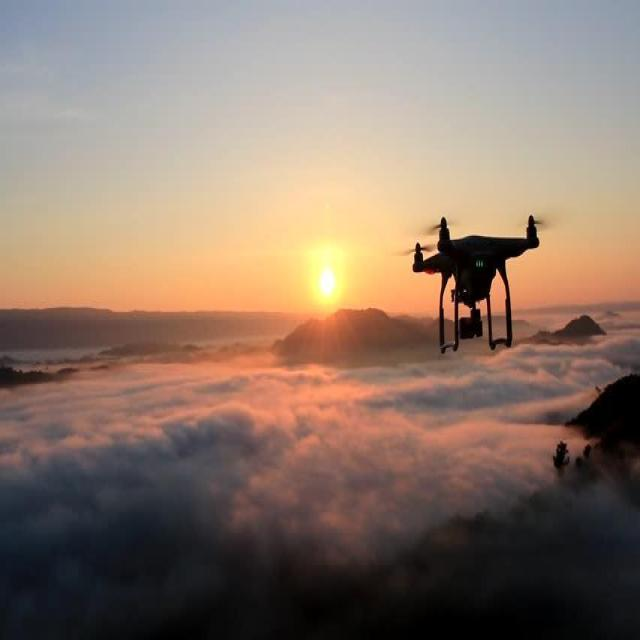drone: (412, 212, 544, 356)
